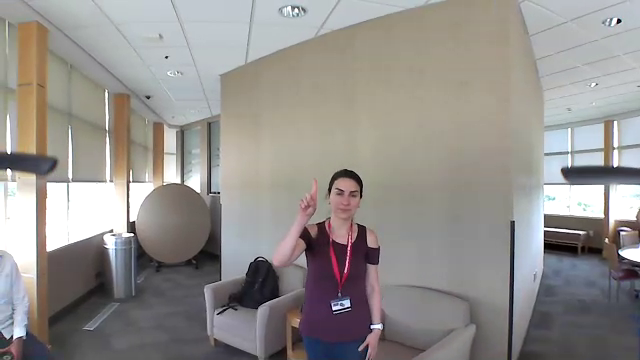up: (294, 176, 321, 221)
